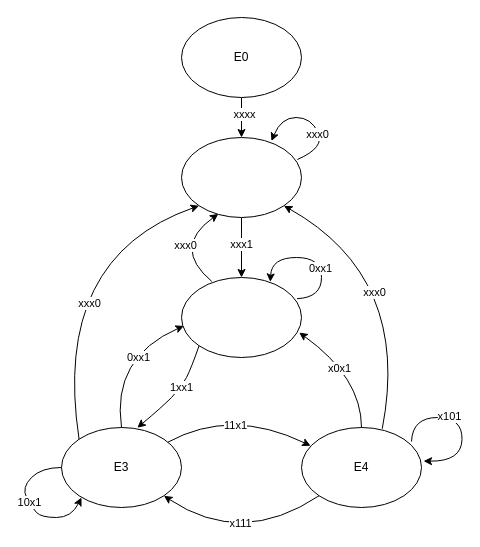
The diagram is 480 pixels wide and 547 high, and some of its shapes have lost their labels. The box of each missing label's shape, as (x1, y1, x2, y2) in pixels:
E1: (180, 136, 302, 218)
E2: (180, 276, 302, 358)
